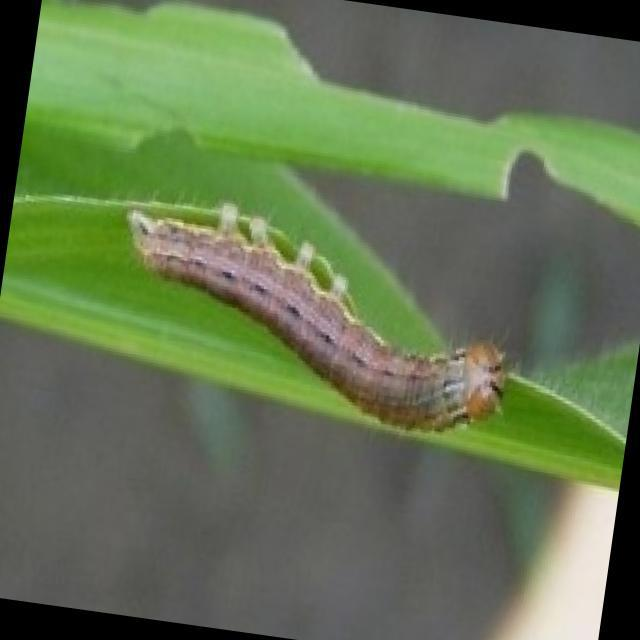Plaga: (97, 178, 555, 456)
